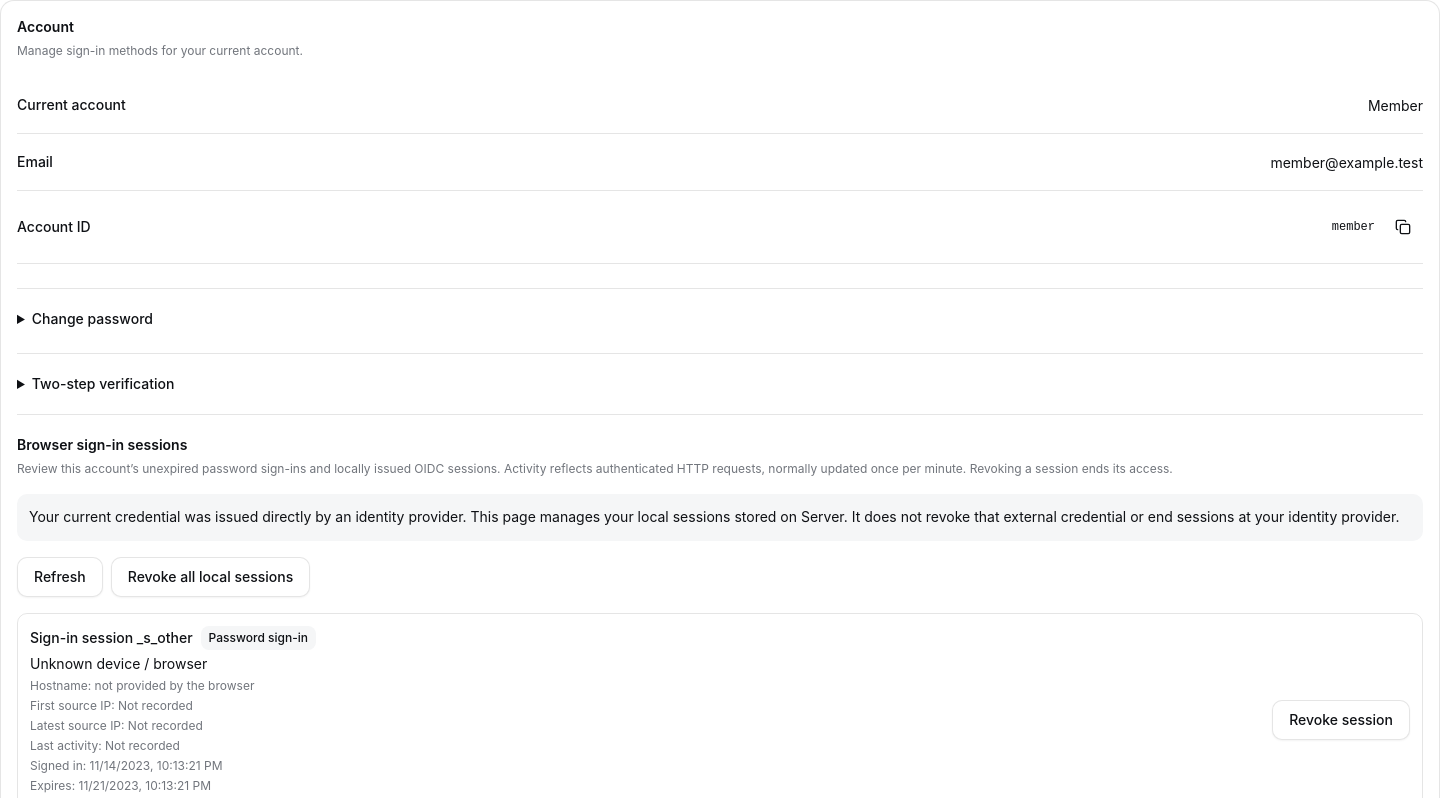
Test: Account browser sessions › explains OIDC limits in English and revokes native sessions without signing out
The image size is (1440, 798).
expect the text "does not revoke that external credential" is shown: met, box [29,508,1399,525]
Click the button "Revoke all local sessions" at (211, 577), box [111,557,310,597]
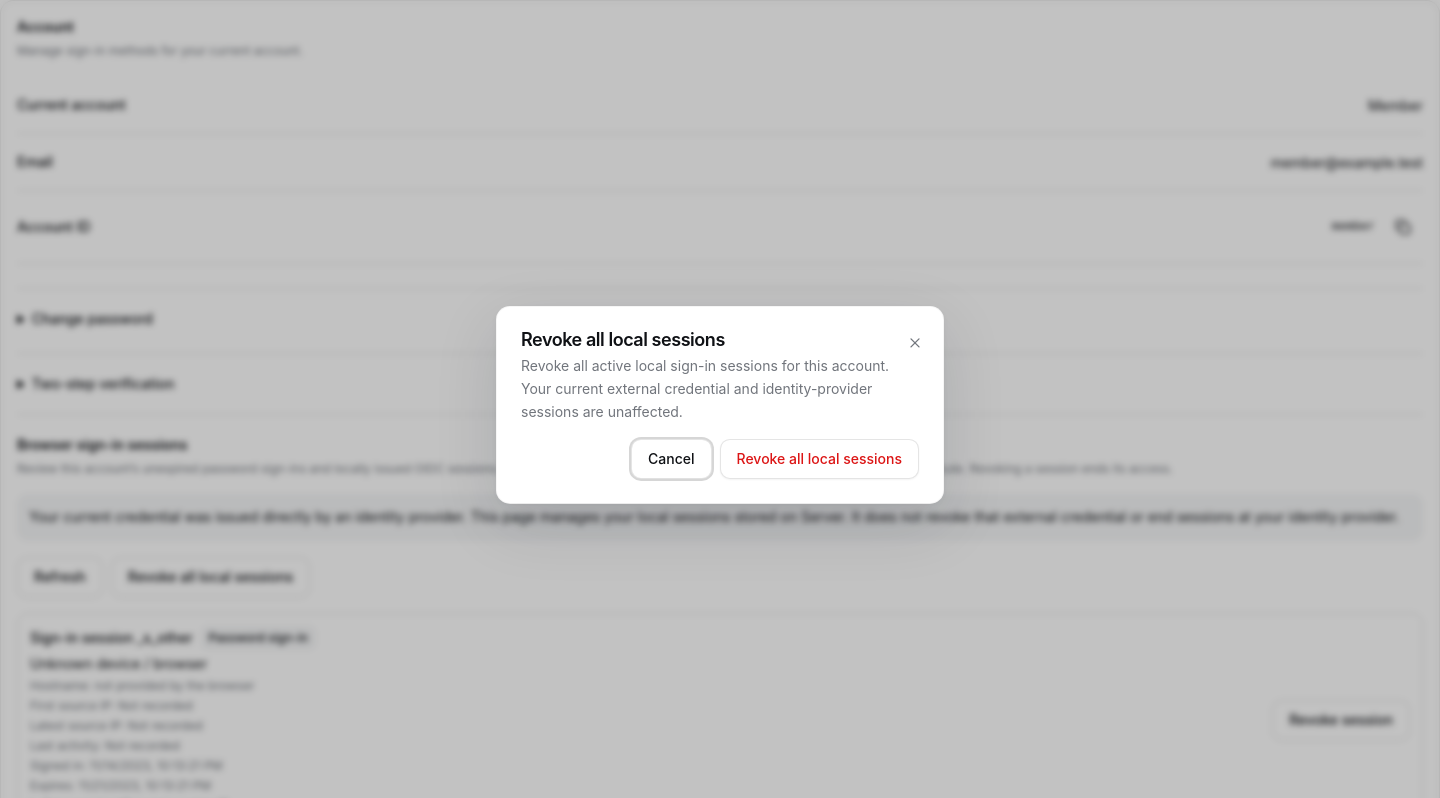
expect the dialog shows "identity-provider sessions are unaffected": met, box [521,357,889,419]
Click the button "Revoke all local sessions" at (819, 459), box [720,439,919,479]
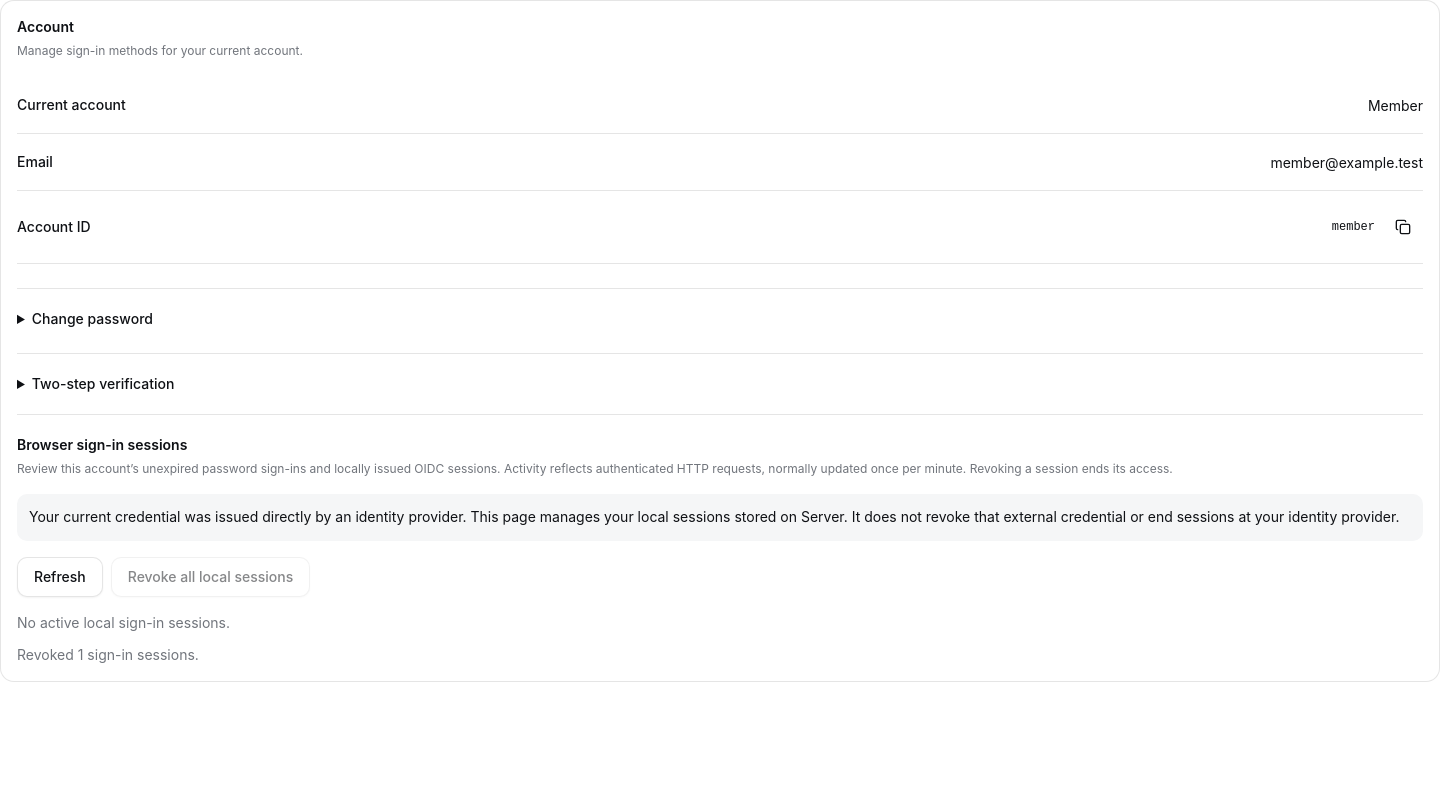
expect the text "No active local sign-in sessions" is shown: met, box [17,614,230,631]
